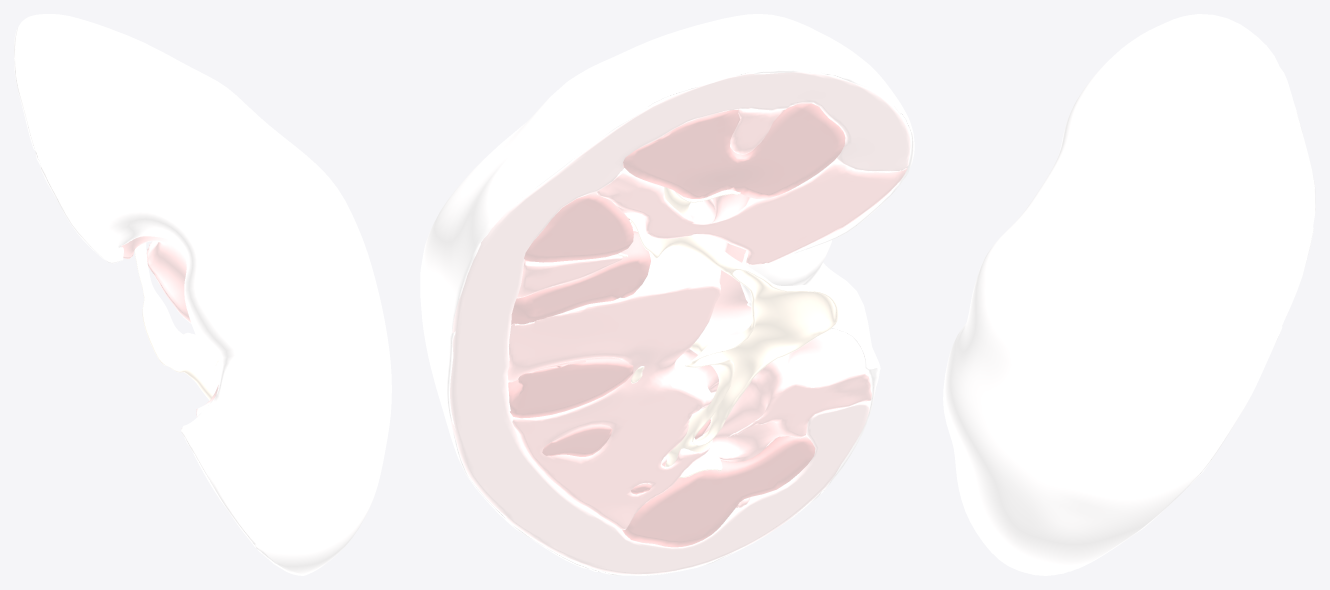
Rendered from VHF_Kidney_L_Bisected_Posterior.glb.
3 views of the same model, side by side, from view 1: azimuth 30°, elevation 25°; view 2: azimuth 150°, elevation 25°; view 3: azimuth 270°, elevation 25° (orthographic). The views are drawn at different scales.
Visible parts, largest first — view 1: VHF_Kidney_L_Capsule_Posterior, VHF_Kidney_L_Calyses_Posterior, VHF_Kidney_L_RenalColumns_Posterior; view 2: VHF_Kidney_L_RenalColumns_Posterior, VHF_Kidney_L_OuterCortex_Posterior, VHF_Kidney_L_Capsule_Posterior, VHF_Kidney_L_Pyramids_Posterior, VHF_Kidney_L_Calyses_Posterior; view 3: VHF_Kidney_L_Capsule_Posterior.
Part boxes in pixels (<box>): VHF_Kidney_L_Capsule_Posterior: <box>14,14,391,575</box>; VHF_Kidney_L_Calyses_Posterior: <box>134,242,218,400</box>; VHF_Kidney_L_RenalColumns_Posterior: <box>121,236,220,428</box>; VHF_Kidney_L_RenalColumns_Posterior: <box>507,109,907,529</box>; VHF_Kidney_L_OuterCortex_Posterior: <box>450,72,910,575</box>; VHF_Kidney_L_Capsule_Posterior: <box>420,14,914,575</box>; VHF_Kidney_L_Pyramids_Posterior: <box>508,103,845,547</box>; VHF_Kidney_L_Calyses_Posterior: <box>617,187,838,477</box>; VHF_Kidney_L_Capsule_Posterior: <box>943,14,1315,575</box>.
Bounding box in the file's own units: 0.8669 × 1.29 × 0.9082.
